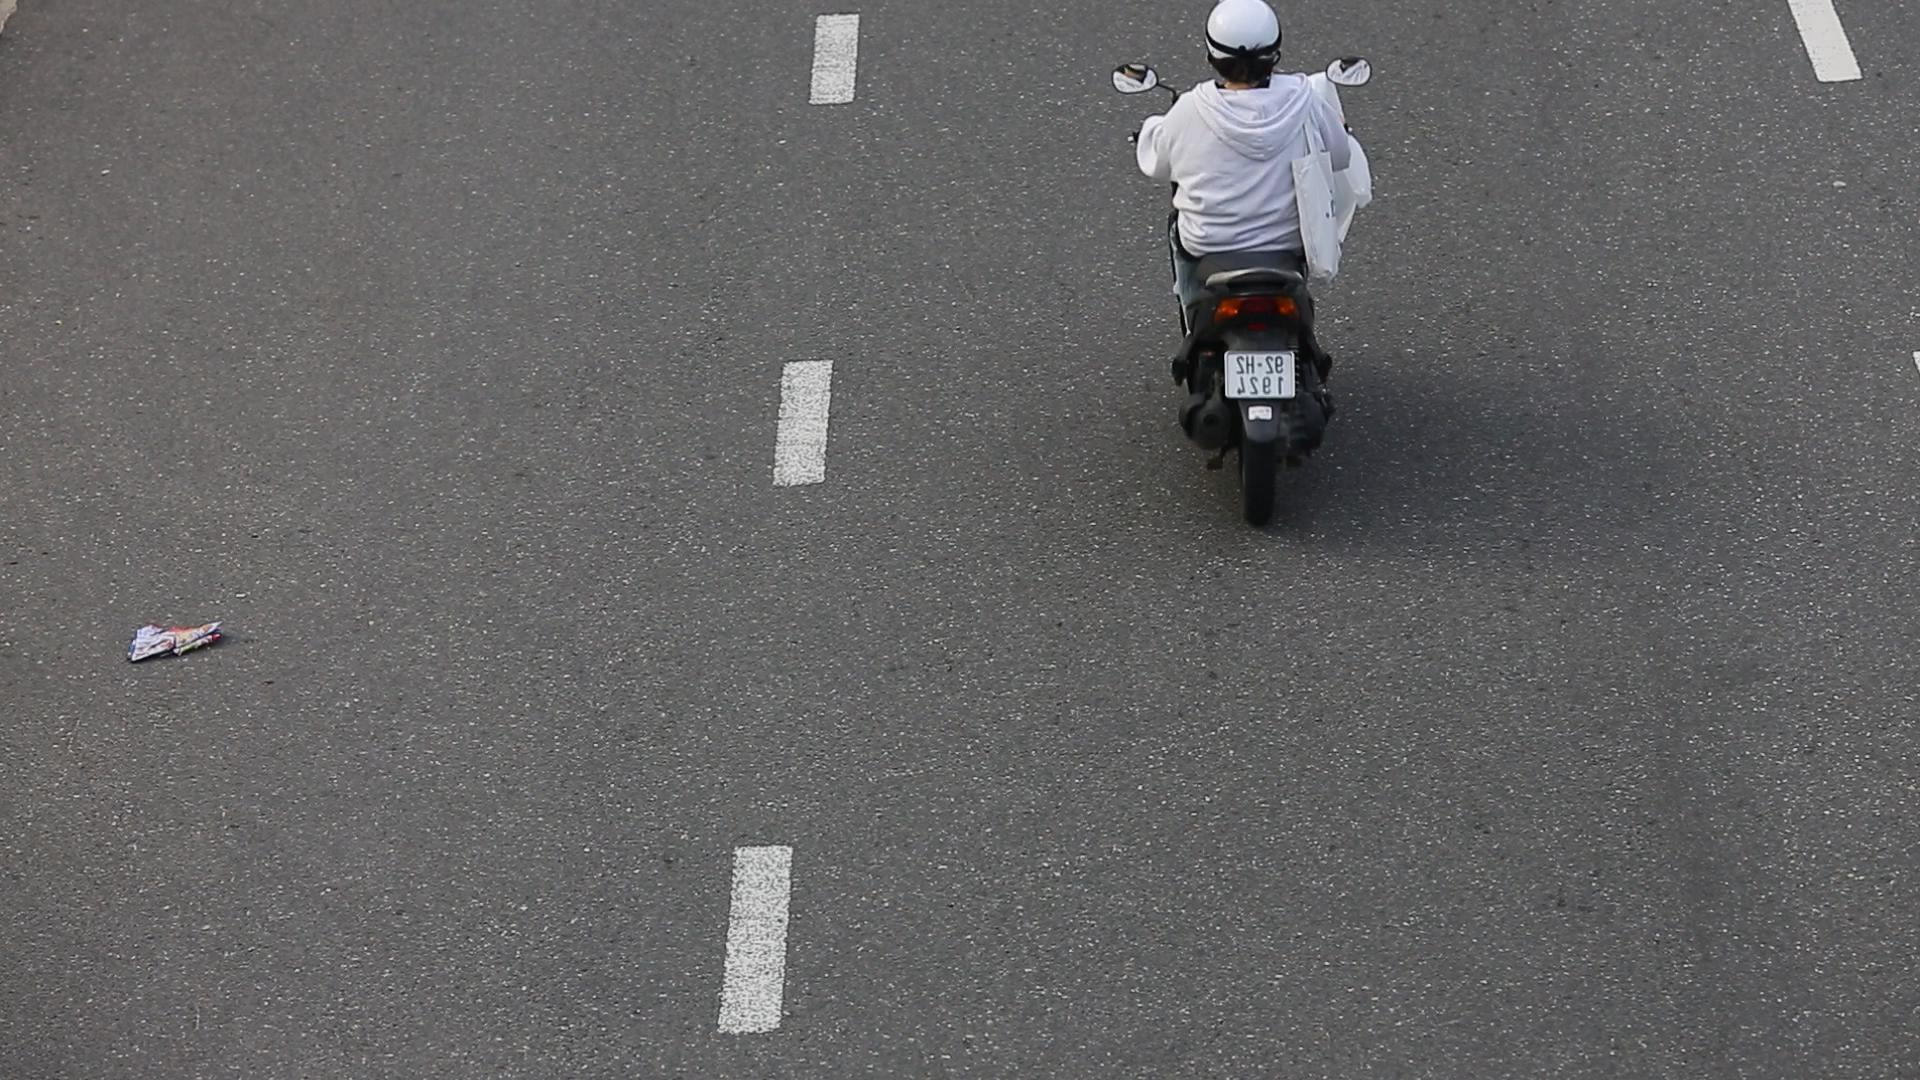motobike: (1077, 0, 1373, 562)
